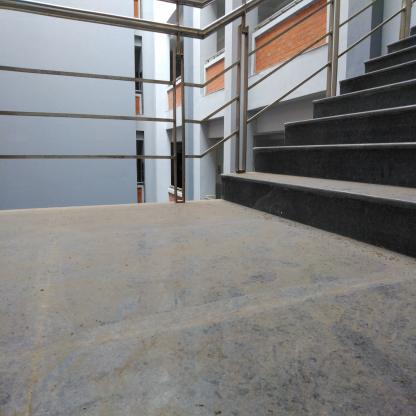stairs: (311, 96, 416, 259)
